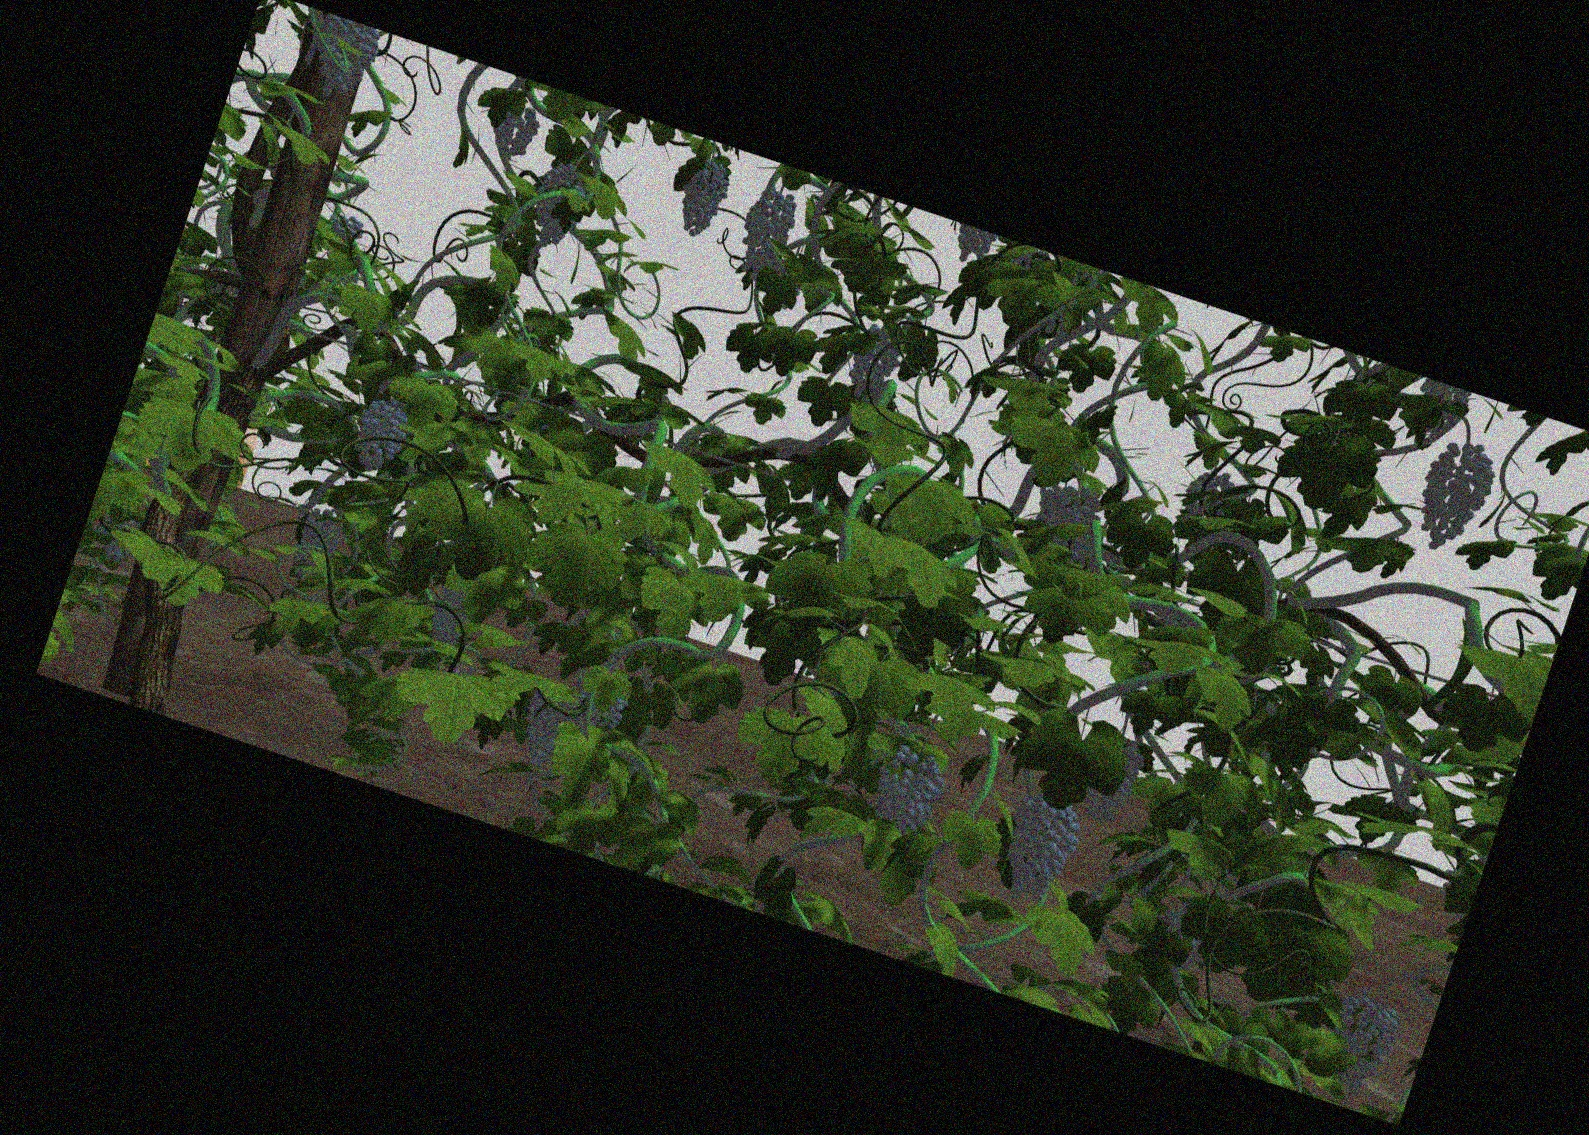grape: (1421, 442, 1488, 550), (1004, 798, 1073, 904), (1334, 997, 1393, 1098), (877, 751, 941, 834), (740, 190, 790, 280), (313, 23, 372, 93), (535, 165, 585, 247), (354, 396, 404, 475), (521, 690, 571, 769), (1036, 486, 1095, 553), (852, 324, 895, 400), (683, 160, 725, 237), (431, 587, 470, 646), (499, 104, 537, 156)
